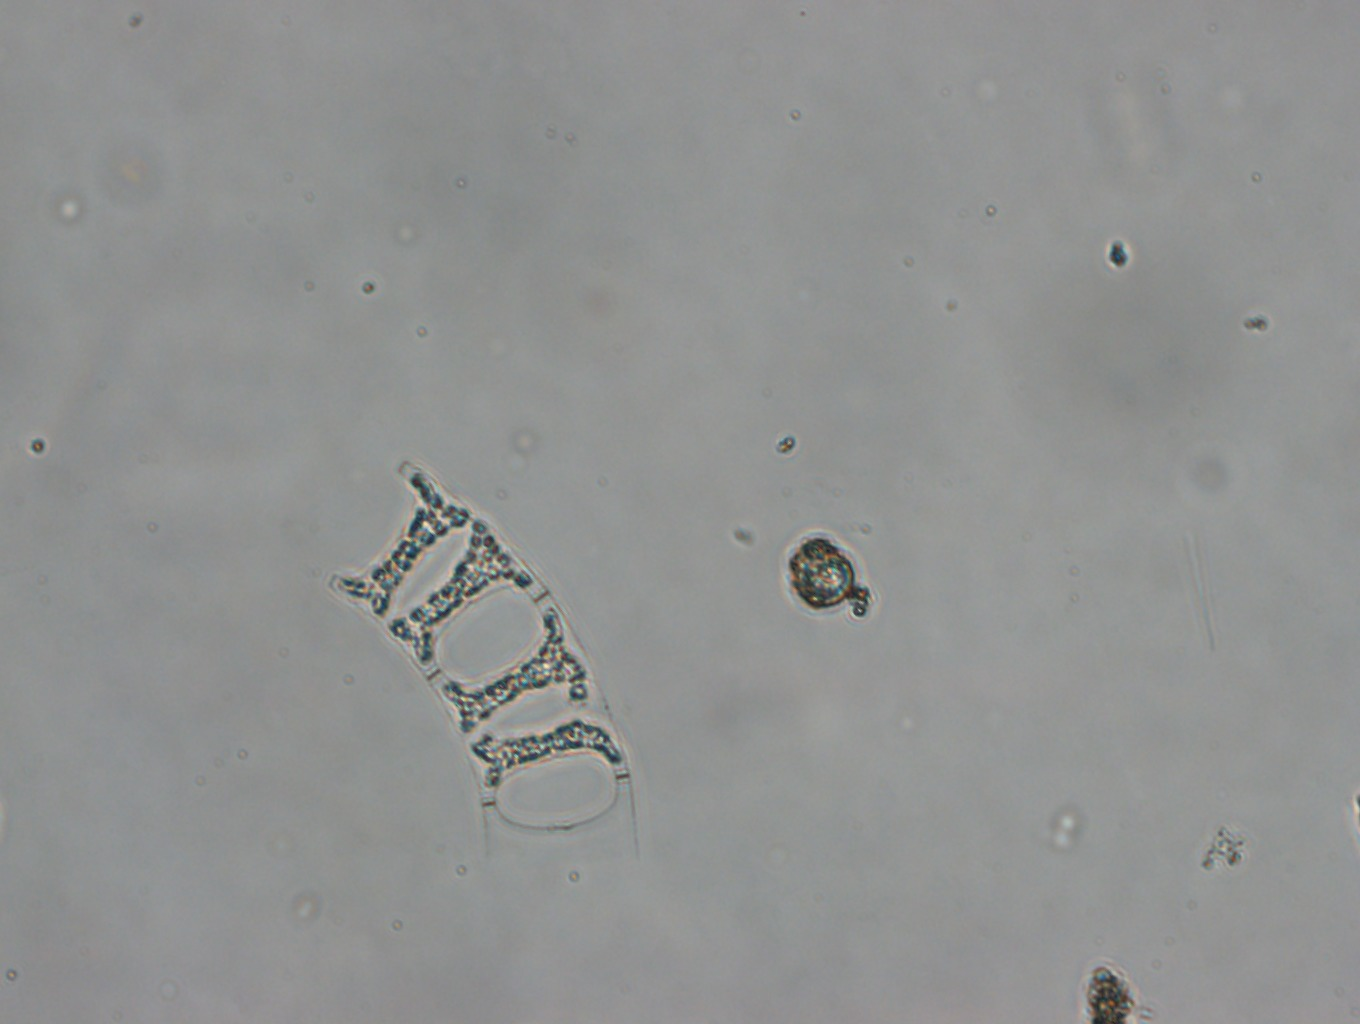eucampia: (326, 456, 642, 866)
